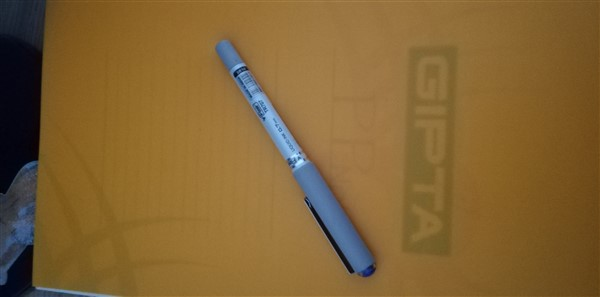pilot kalem: (211, 35, 380, 281)
